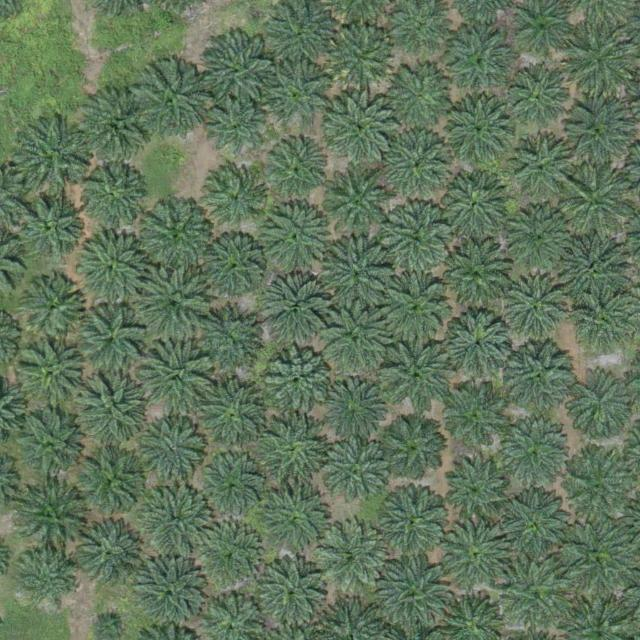Kelapa_Sawit: (196, 31, 274, 109), (130, 64, 208, 142), (16, 117, 94, 195), (135, 263, 213, 341), (136, 194, 214, 272), (252, 414, 330, 492), (258, 482, 336, 560), (70, 368, 148, 446), (137, 336, 215, 414), (249, 550, 327, 628), (565, 23, 635, 94), (258, 275, 328, 346), (80, 89, 150, 160), (563, 368, 633, 439), (504, 340, 574, 411), (142, 484, 212, 555), (75, 449, 145, 520), (17, 484, 87, 555), (15, 411, 85, 482), (16, 338, 86, 409), (316, 519, 386, 590), (378, 556, 448, 627), (439, 518, 509, 589), (560, 97, 630, 167), (562, 162, 632, 232), (557, 232, 627, 302), (500, 273, 570, 343), (440, 92, 510, 162), (437, 168, 507, 238), (441, 242, 511, 312), (383, 60, 453, 130), (383, 129, 453, 199), (382, 201, 452, 271), (326, 90, 396, 160), (324, 169, 394, 239), (320, 240, 390, 310), (257, 199, 327, 269), (320, 307, 390, 377), (379, 272, 449, 342), (443, 312, 513, 382), (74, 230, 144, 300), (73, 304, 143, 374), (561, 452, 631, 522), (438, 385, 508, 455), (498, 424, 568, 494), (501, 487, 571, 557), (444, 455, 514, 525), (377, 484, 447, 554), (381, 344, 451, 414), (316, 372, 386, 442), (321, 440, 391, 510), (263, 345, 333, 415), (197, 379, 267, 449), (561, 521, 631, 591), (71, 519, 141, 589), (135, 560, 205, 630), (191, 519, 261, 589), (500, 555, 570, 625), (505, 65, 567, 128), (508, 132, 570, 195), (507, 205, 569, 268), (448, 29, 510, 92), (329, 24, 391, 87), (272, 1, 334, 64), (265, 62, 327, 125), (262, 138, 324, 201), (204, 95, 266, 158), (18, 194, 80, 257), (22, 274, 84, 337), (382, 417, 444, 480), (199, 459, 261, 522), (144, 422, 206, 485), (202, 167, 264, 229), (201, 235, 263, 297), (192, 312, 254, 374), (80, 162, 142, 224), (18, 551, 72, 606), (575, 297, 621, 343)
